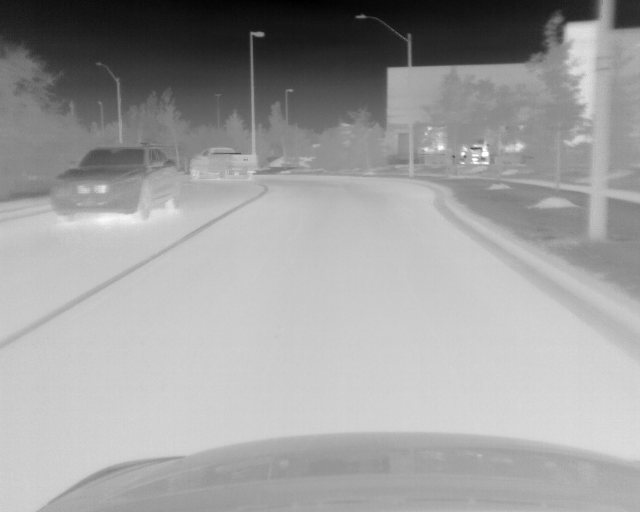car: (50, 144, 185, 224), (188, 144, 257, 183)
